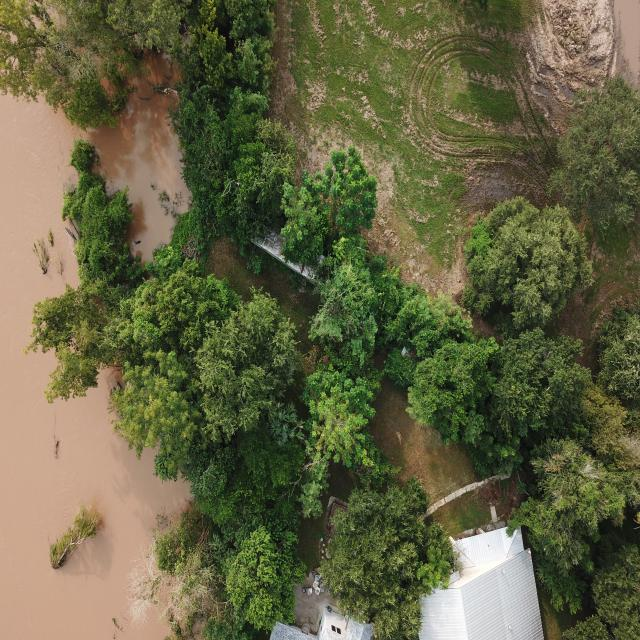fire: (0, 73, 189, 639)
